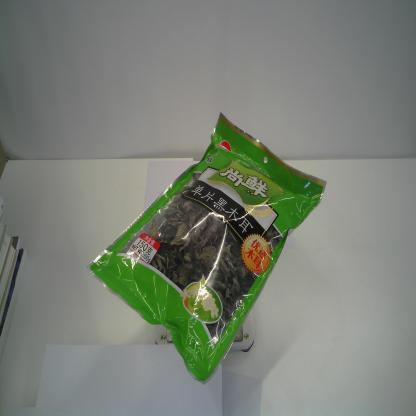Dried Food: (86, 111, 327, 384)
